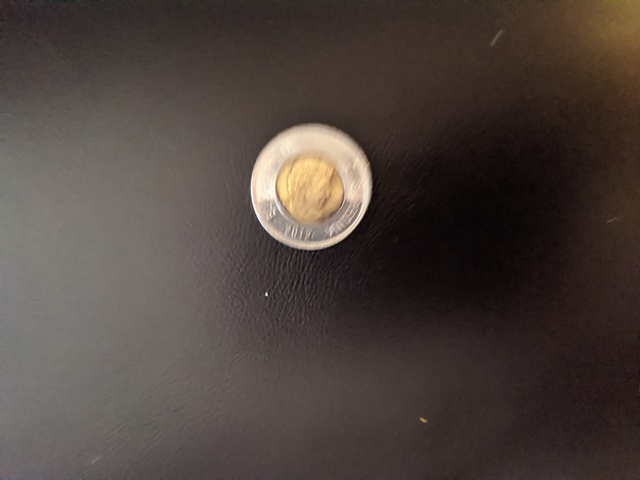twonie: (243, 120, 386, 255)
